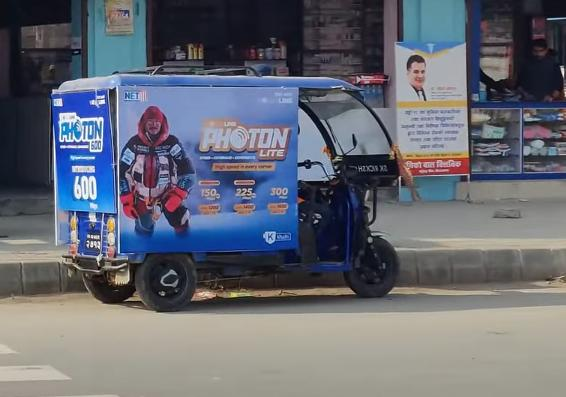e-rickshaw: (43, 69, 405, 321)
